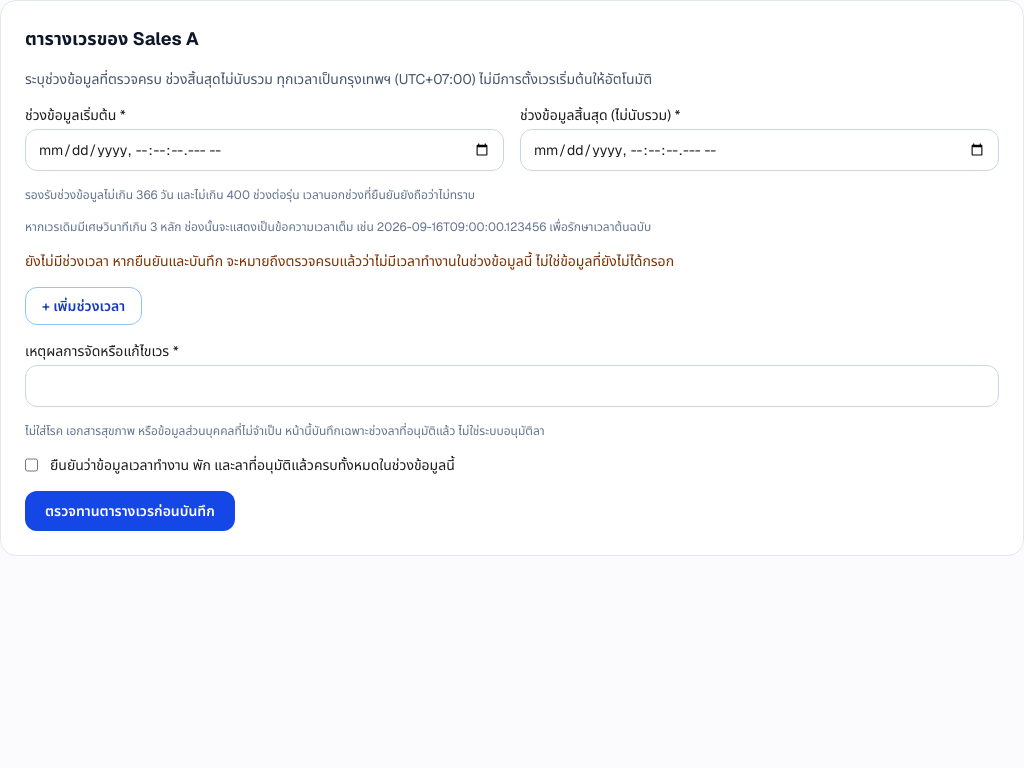
Test: Admin work schedule review and publish › does not invent a shift for an unpublished calendar and requires dates
Expected: the field labelled "ช่วงข้อมูลเริ่มต้น *" is empty, left=25, top=129, right=504, bottom=171
Step 1. Type "จัดเวรเดือนนี้" into the field labelled "เหตุผลการจัดหรือแก้ไขเวร *" → {"x": 512, "y": 386}, box left=25, top=365, right=999, bottom=407
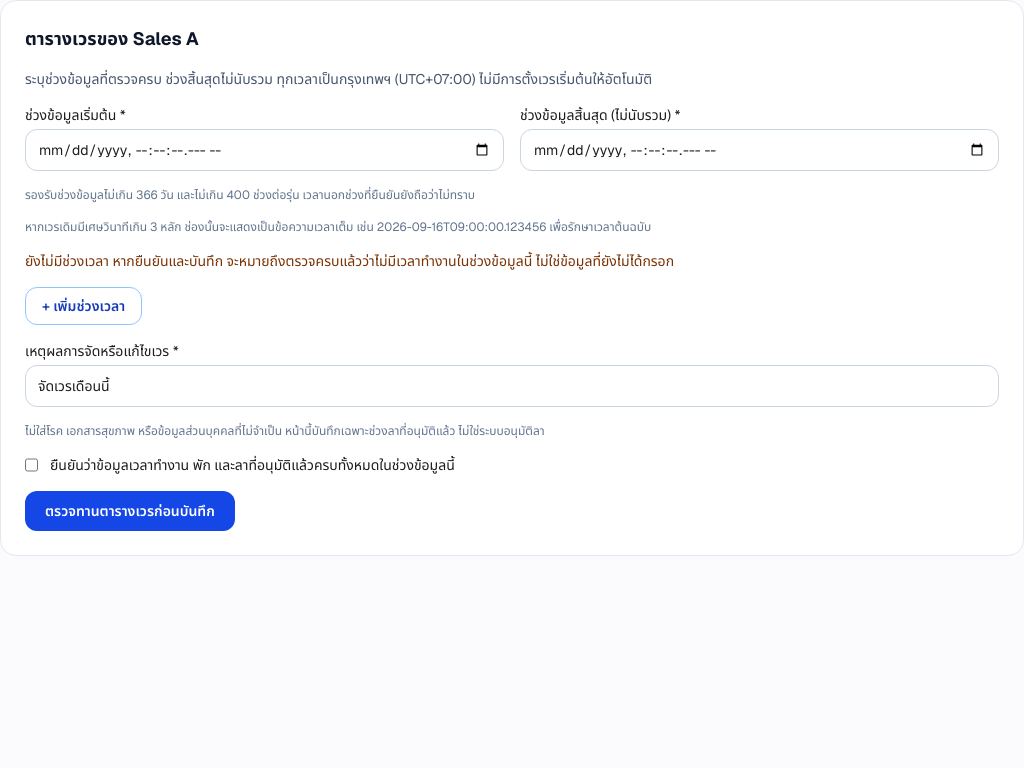
Step 2. Click the checkbox → {"x": 32, "y": 465}, box left=25, top=455, right=38, bottom=475
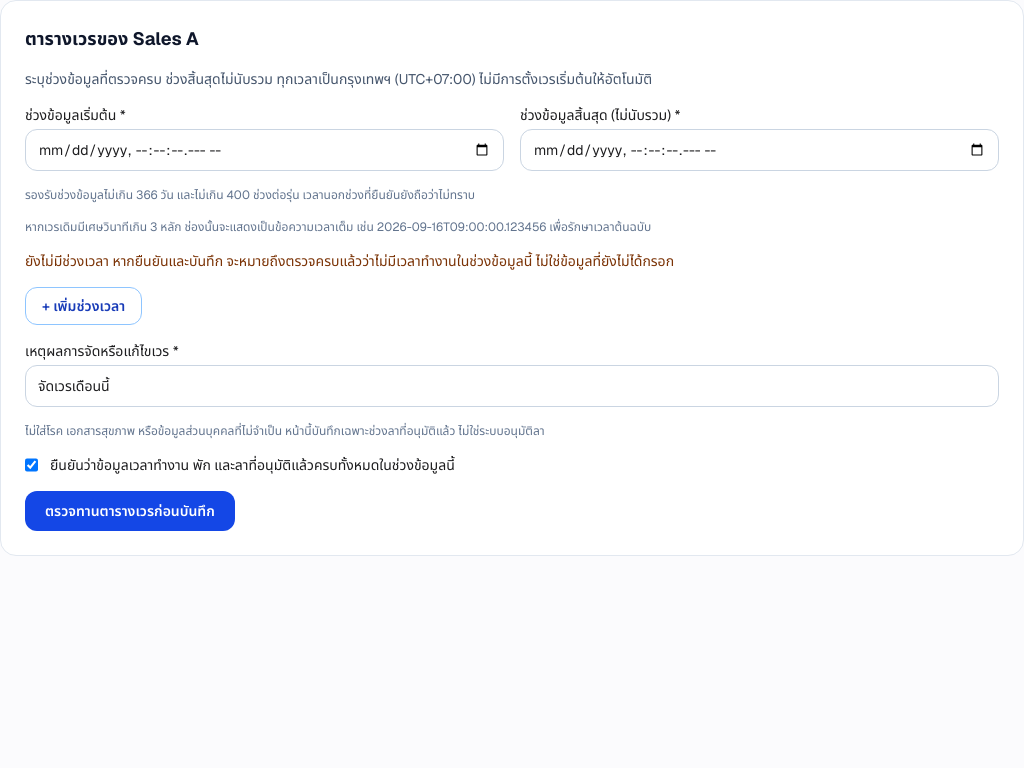
Step 3. Submit the form named "จัดเวร Sales", box left=25, top=69, right=999, bottom=531
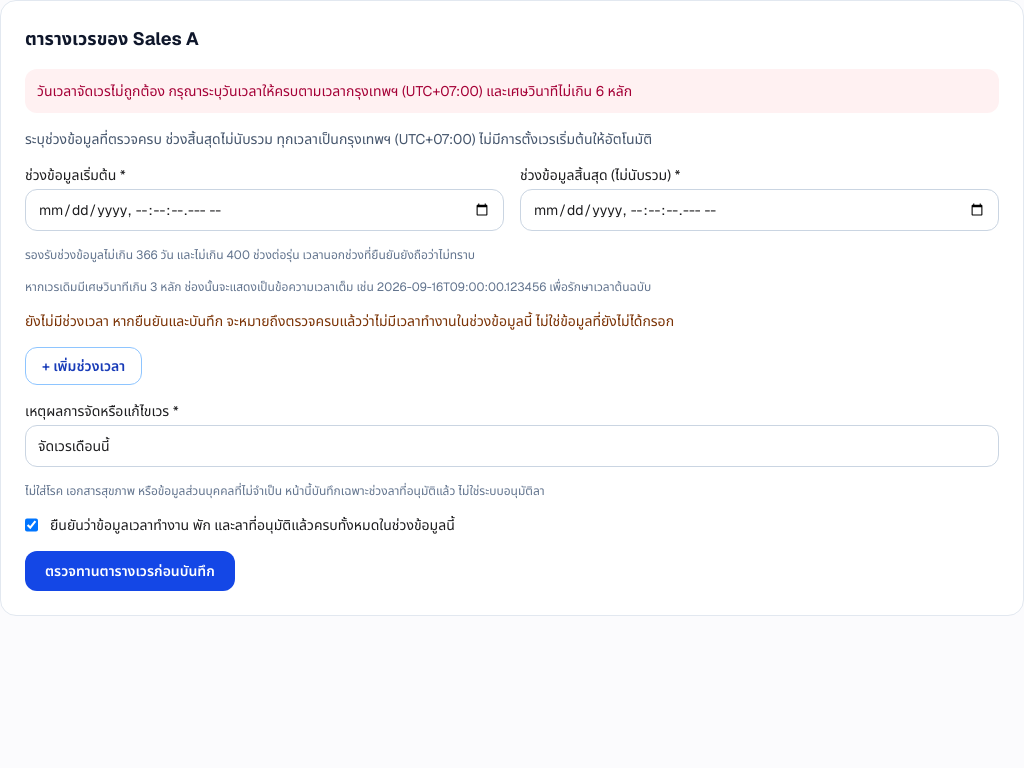
Now the message is shown, box left=25, top=69, right=999, bottom=113
